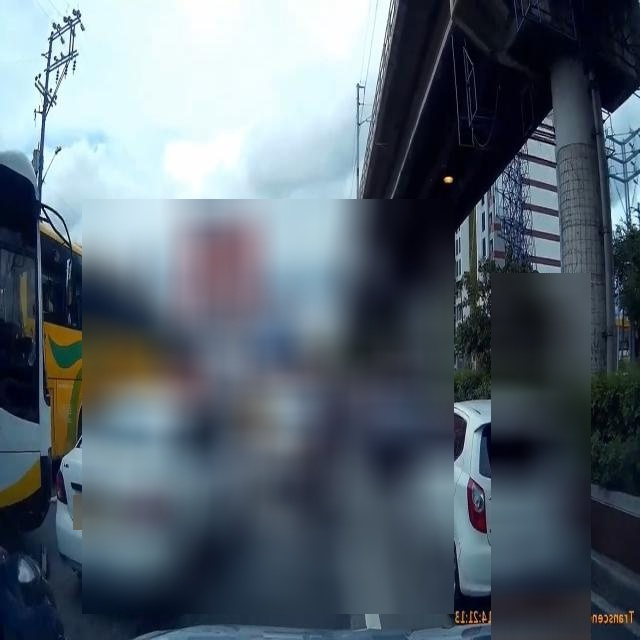bus: (38, 225, 172, 462), (243, 328, 309, 405), (209, 341, 252, 404)
car: (70, 398, 554, 614), (234, 393, 584, 603), (357, 364, 447, 480), (258, 392, 322, 486), (245, 383, 280, 437)
motorcycle: (298, 372, 338, 538)
